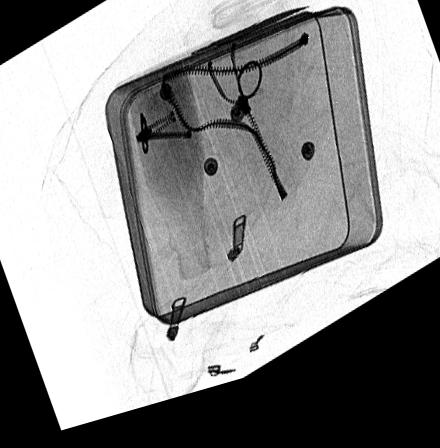Knife: (112, 22, 308, 103)
